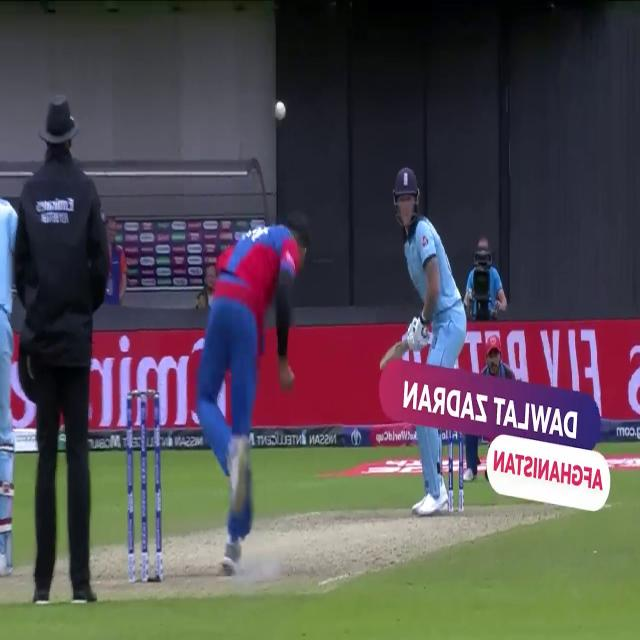ball: (270, 96, 290, 123)
